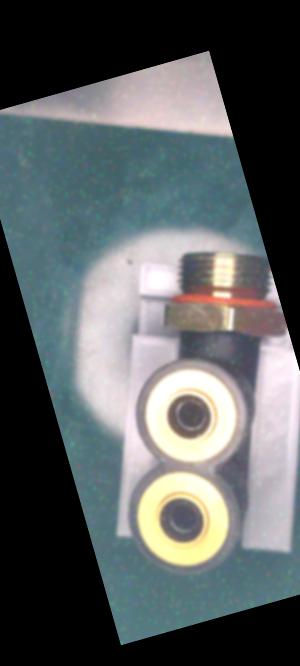craze: (205, 328, 227, 351)
